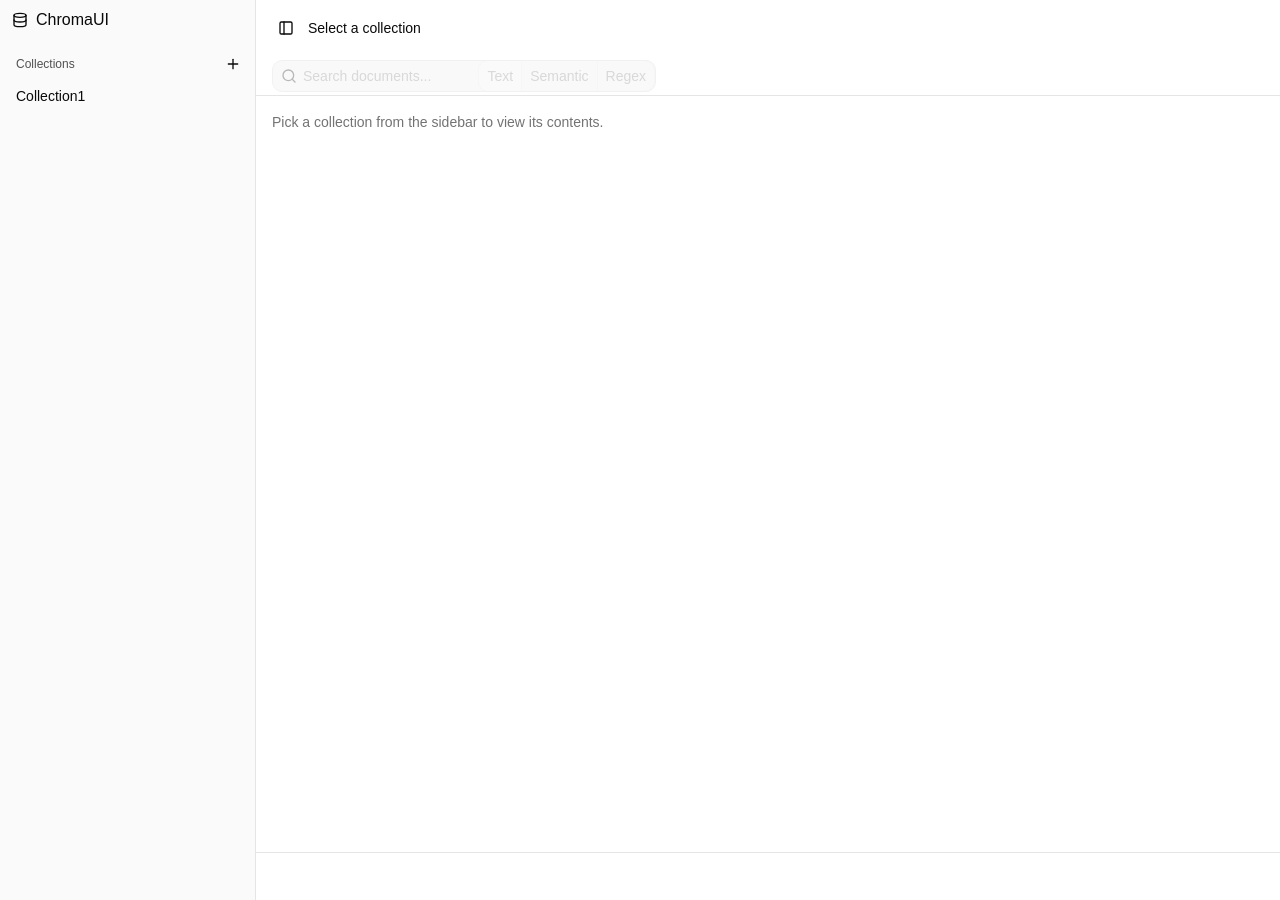
Items End to End › adds a new item and renders it successfully
This screenshot has width=1280, height=900.
Click the button "Collection1" at (128, 96), box [8,80,247,112]
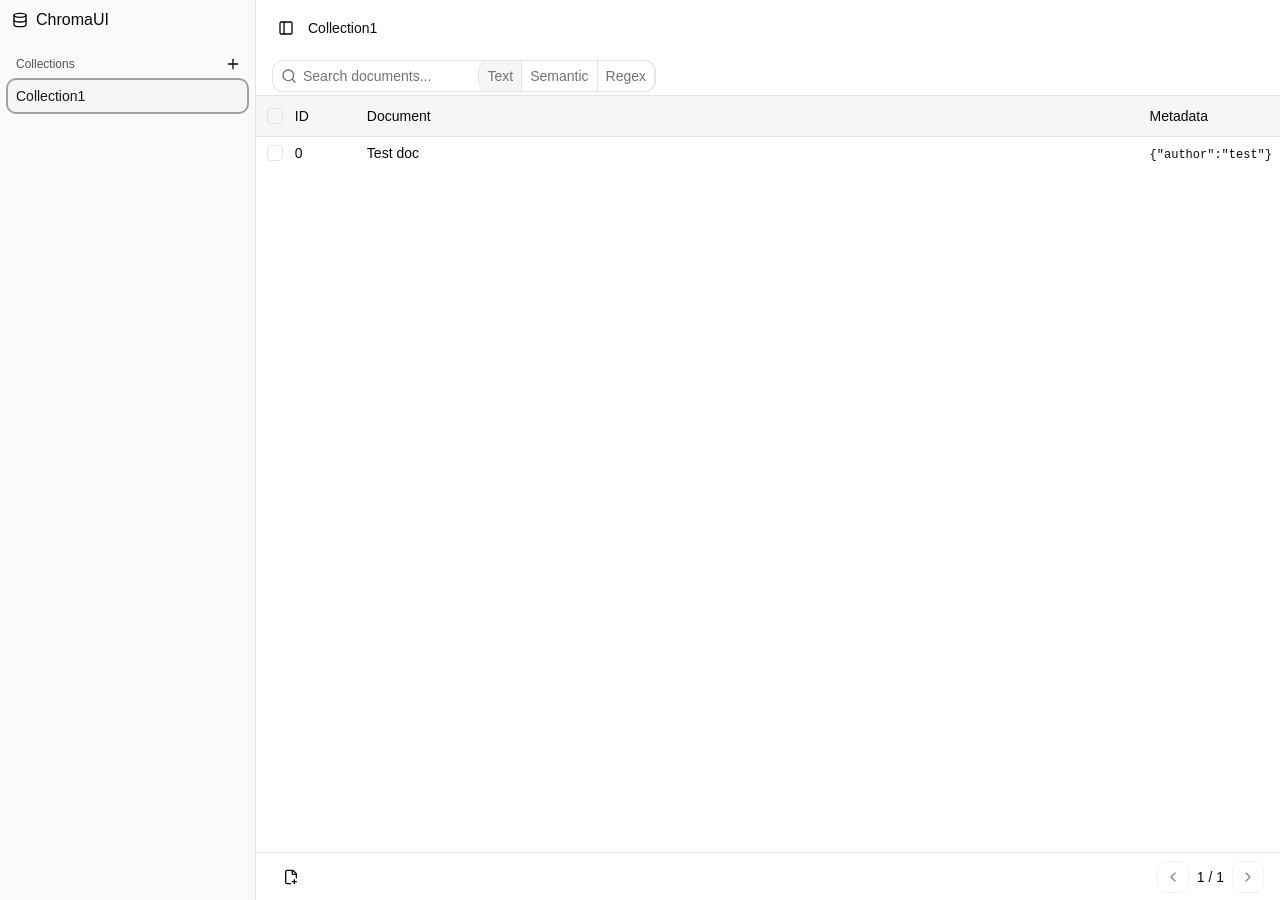
Click the 3rd button named "Add item" at (291, 876), box [272,862,310,890]
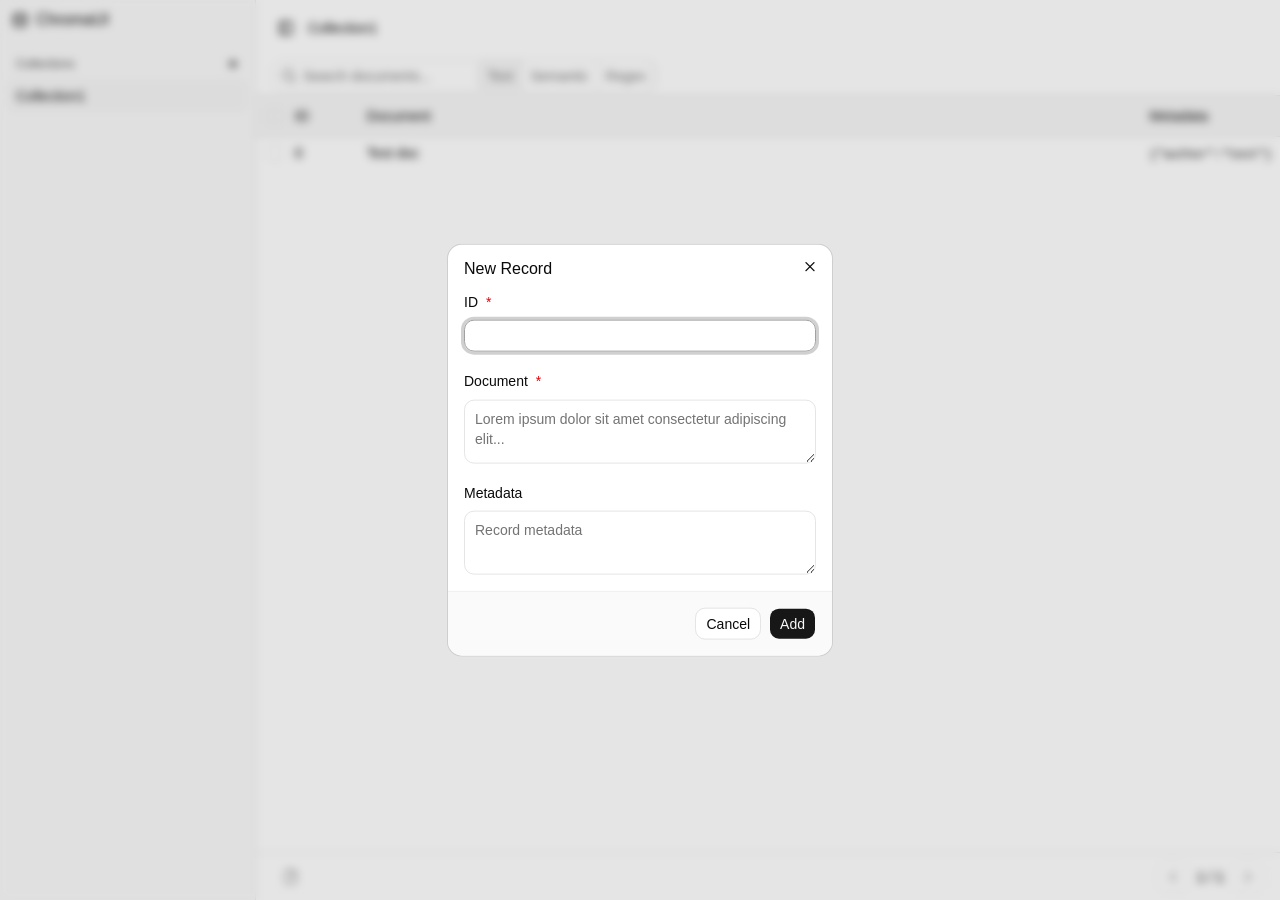
Type "1" into the field labelled "ID *" at (640, 336), box [464,320,816,352]
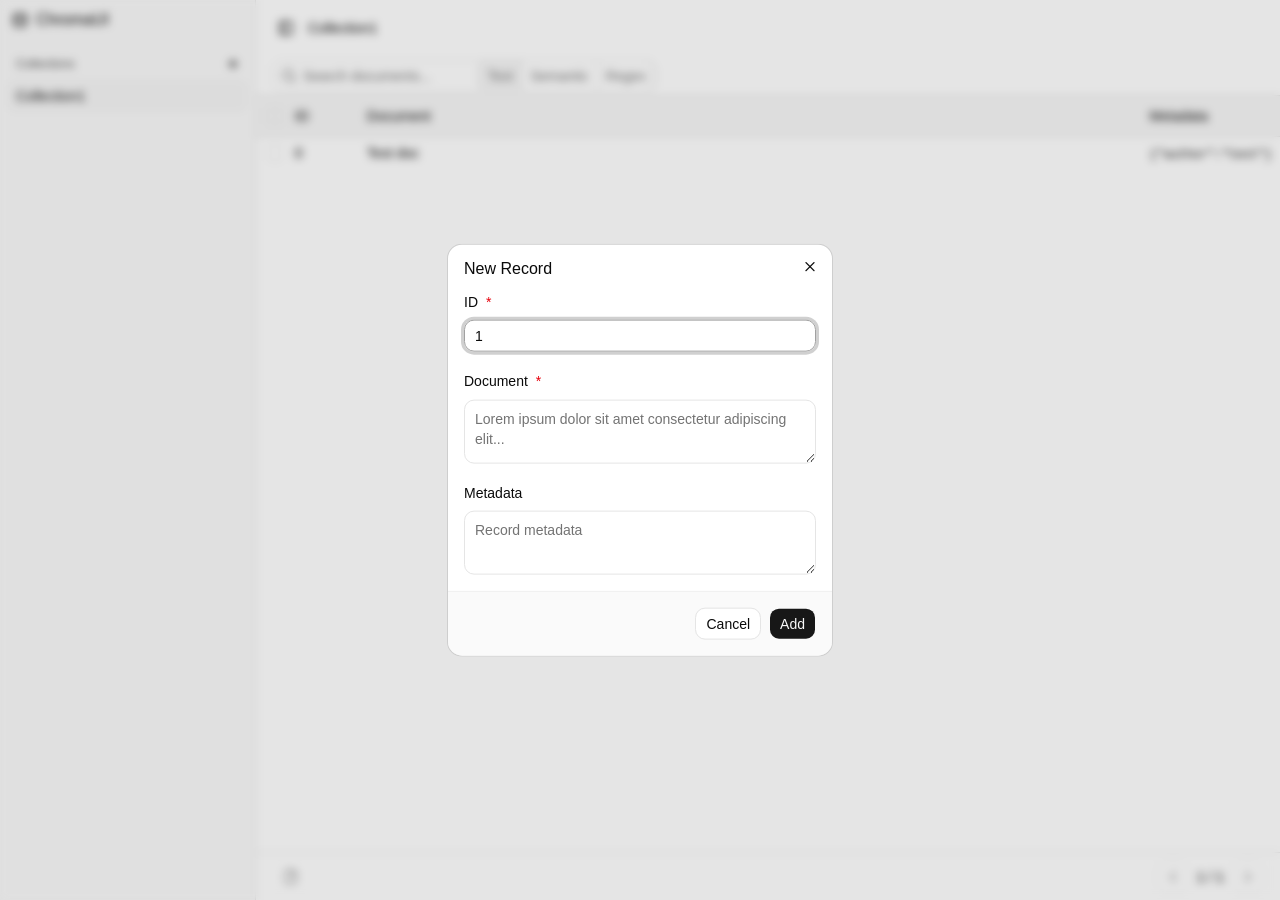
Type "Test doc2" into the text box labelled "Document *" at (640, 431), box [464,399,816,463]
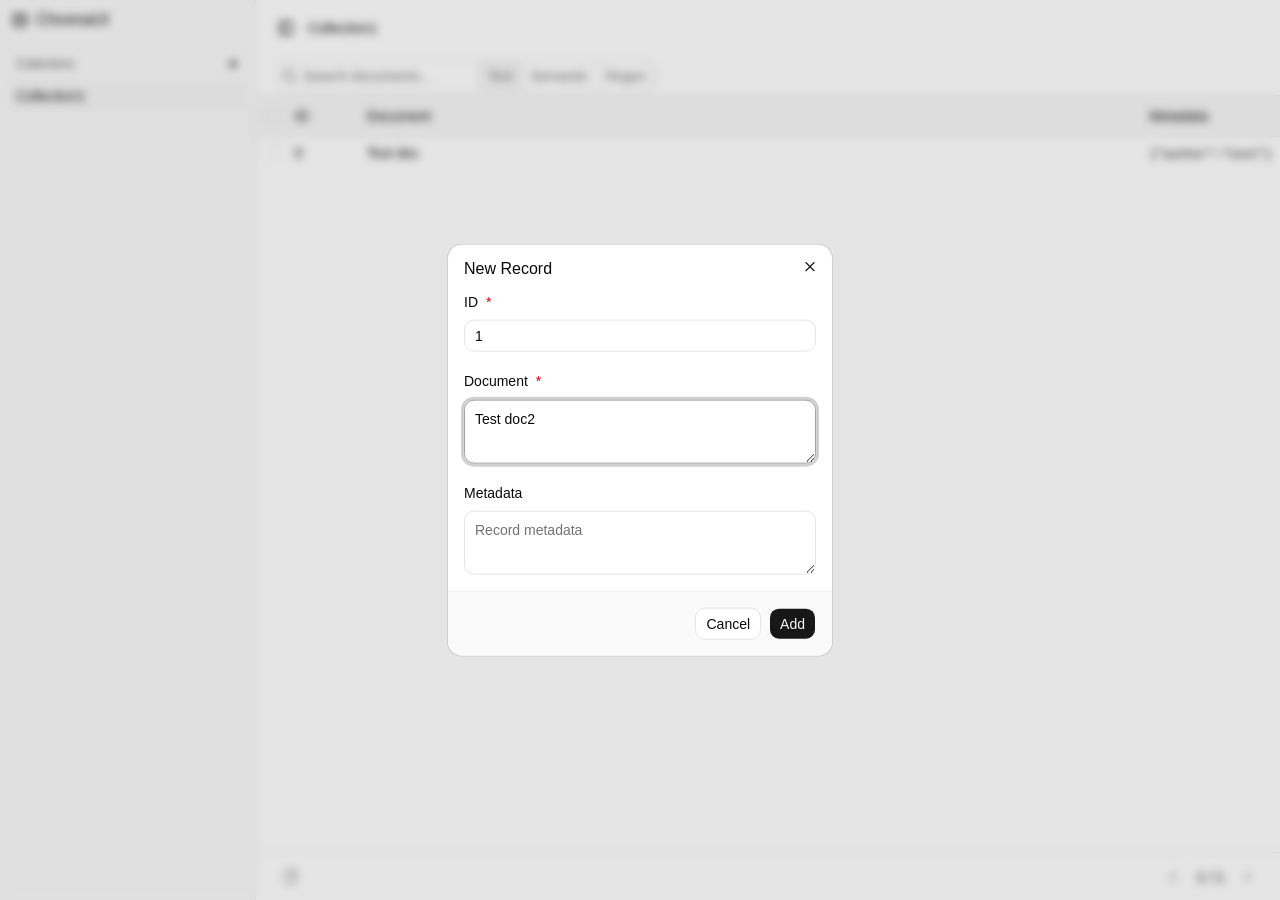
Click the button "Add" at (793, 623), box [769,607,816,639]
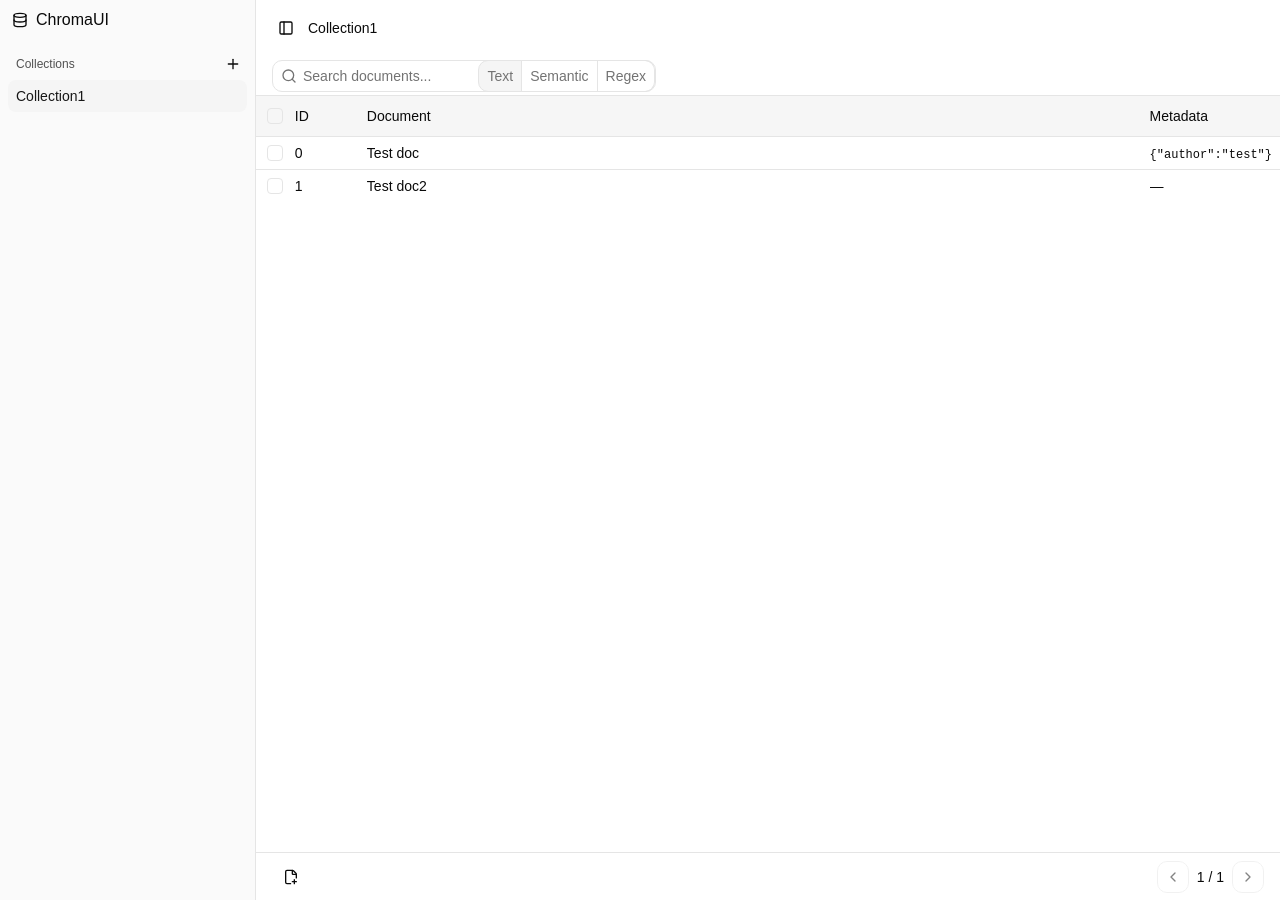
expect the text "Test doc2" is shown: met, box [367,178,427,194]
